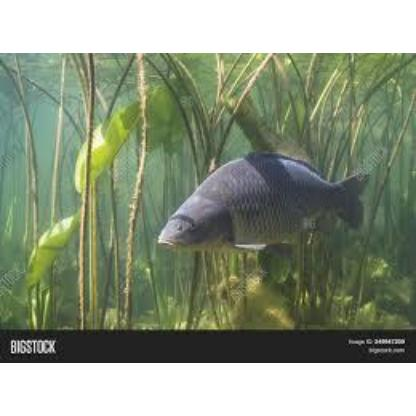ikan-mas: (154, 148, 370, 252)
